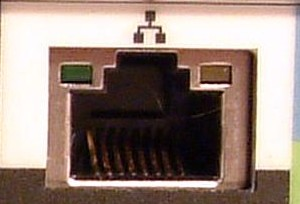lan: (48, 46, 239, 188)
